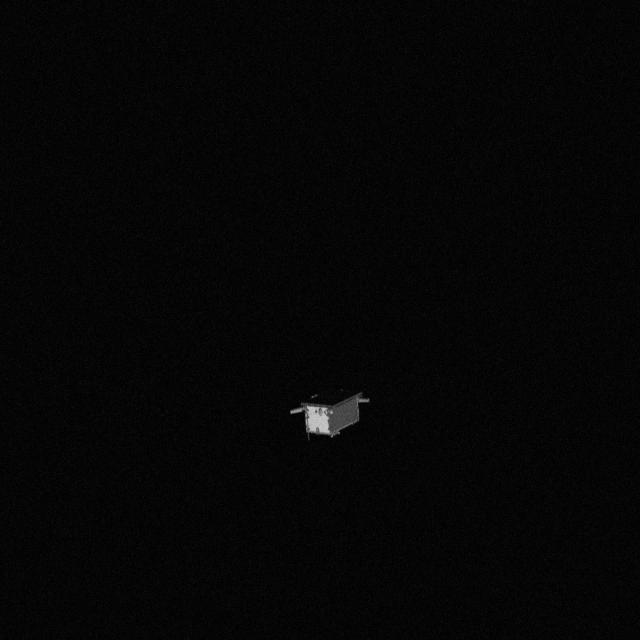satellite: (288, 382, 382, 436)
